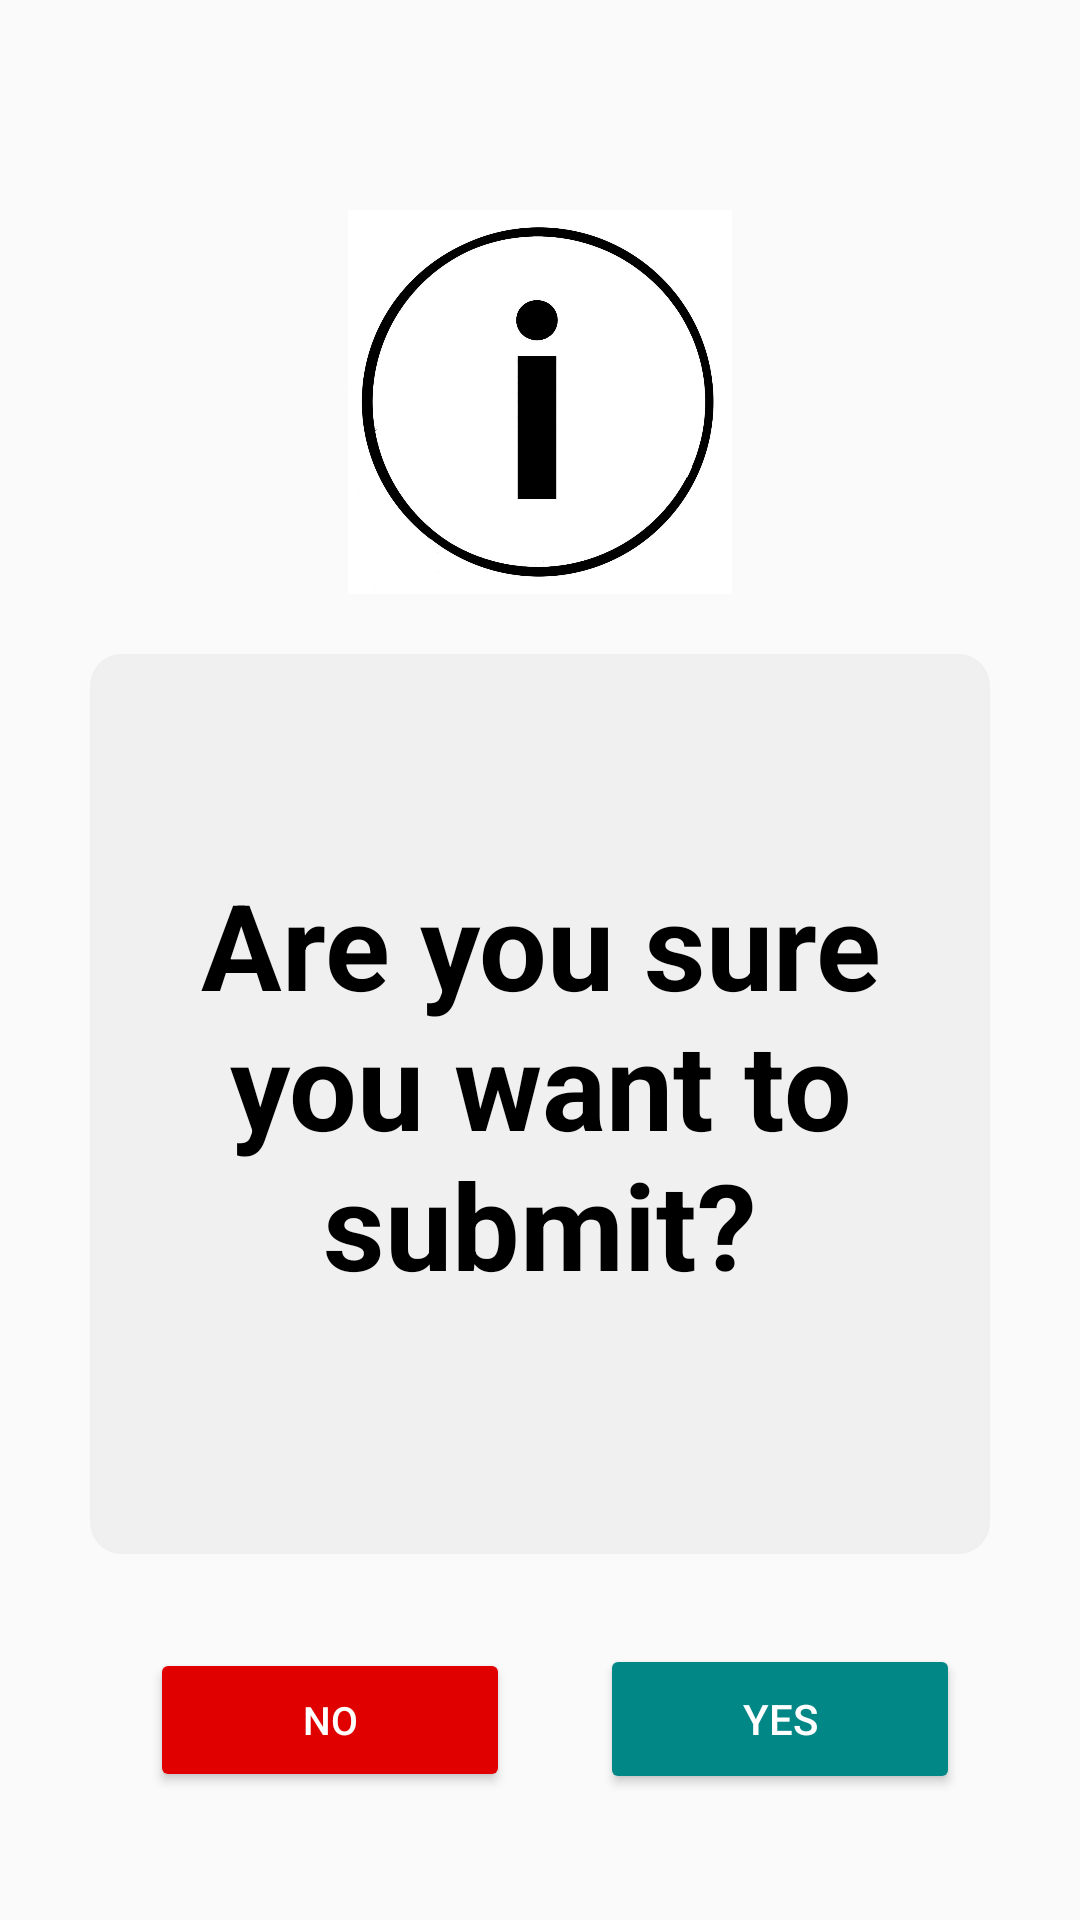

Named icons in this screenshot (1080w x 1920h) and their centers, (x,y):
info: (538,402)
